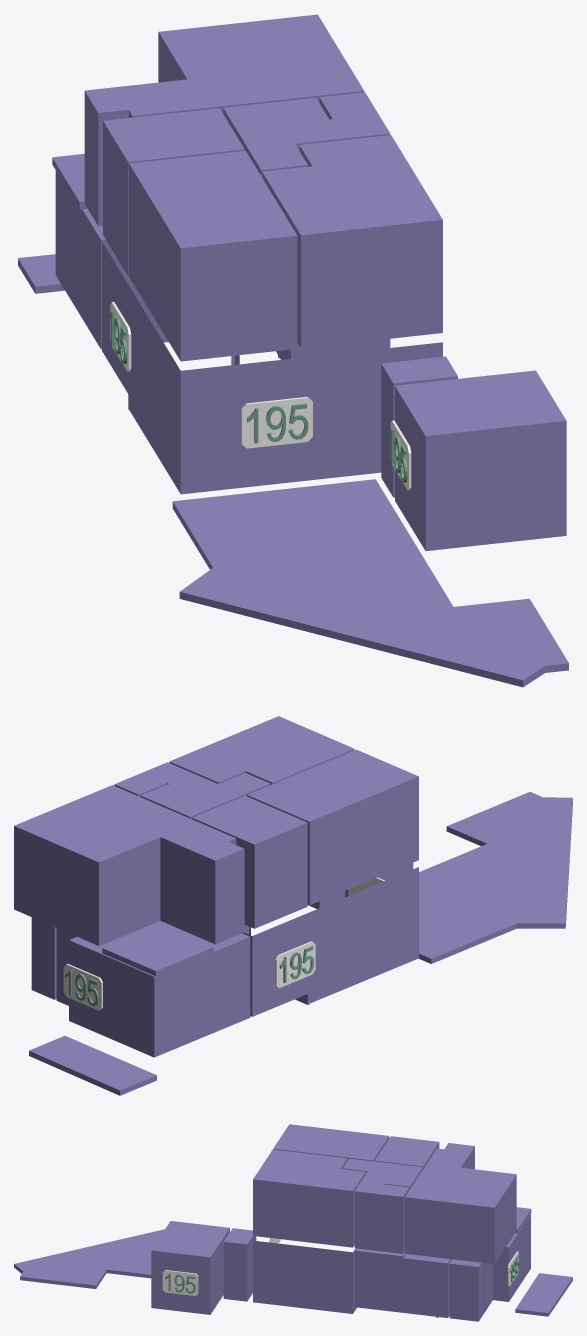
The picture shows the model from 3 angles, top to bottom: view 1: azimuth 30°, elevation 25°; view 2: azimuth 150°, elevation 25°; view 3: azimuth 270°, elevation 25°; orthographic projection. The views are drawn at different scales.
Visible parts, largest first — view 1: g_13, g_1, g_7, g_6, g_5, g_11, g_9, g_0, g_8, g_4, g_18, g_10 (+3 smaller); view 2: g_11, g_13, g_7, g_0, g_1, g_9, g_6, g_14, g_12, g_8, g_3, g_10 (+3 smaller); view 3: g_11, g_6, g_1, g_2, g_5, g_13, g_10, g_7, g_3, g_4, g_0, g_14 (+4 smaller).
Part boxes in pixels (box(x1,y1,x2,y2)): g_13: box(172, 479, 568, 687); g_1: box(102, 242, 442, 494); g_7: box(129, 151, 297, 361); g_6: box(262, 135, 442, 348); g_5: box(395, 370, 566, 550); g_11: box(84, 14, 364, 226); g_9: box(103, 108, 244, 275); g_0: box(55, 170, 168, 349); g_8: box(223, 97, 337, 177); g_4: box(381, 356, 457, 497); g_18: box(241, 397, 312, 448); g_10: box(319, 92, 390, 140); g_11: box(14, 785, 244, 945); g_13: box(419, 791, 572, 963); g_7: box(247, 749, 418, 905); g_0: box(69, 921, 250, 1057); g_1: box(242, 867, 418, 1016); g_9: box(192, 795, 307, 928); g_6: box(169, 716, 354, 784); g_14: box(29, 1036, 156, 1095); g_12: box(102, 924, 213, 976); g_8: box(140, 773, 270, 818); g_3: box(31, 917, 56, 999); g_10: box(114, 762, 194, 796); g_11: box(405, 1143, 516, 1264); g_6: box(253, 1149, 365, 1247); g_1: box(253, 1240, 356, 1313); g_2: box(354, 1248, 492, 1317); g_5: box(151, 1221, 229, 1314); g_13: box(14, 1229, 164, 1288); g_10: box(354, 1180, 409, 1253); g_7: box(273, 1124, 389, 1161); g_3: box(449, 1259, 484, 1321); g_4: box(223, 1228, 256, 1301); g_0: box(492, 1214, 530, 1301); g_14: box(515, 1273, 572, 1316).
Size of the model in its own units: 9.75 by 5.35 by 21.35.
